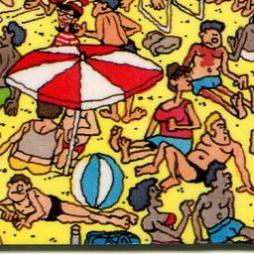wenda: (48, 0, 92, 50)
